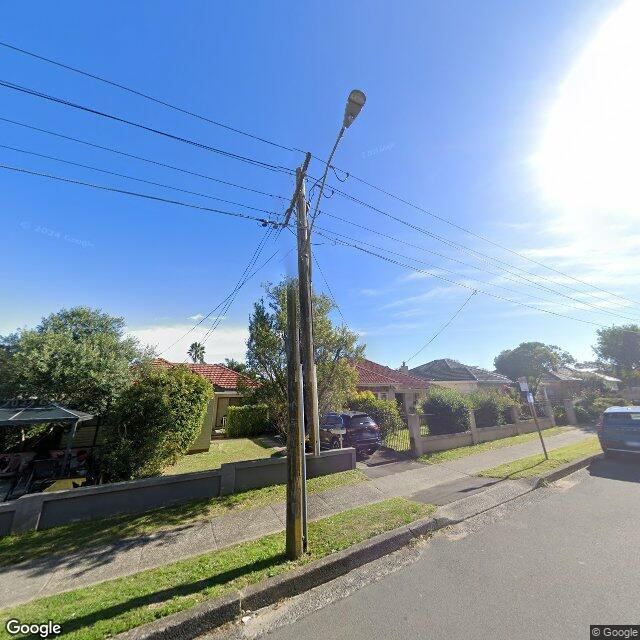crossarm: (281, 151, 314, 229)
streetlight: (304, 89, 364, 252)
timber-pole: (280, 168, 322, 558)
